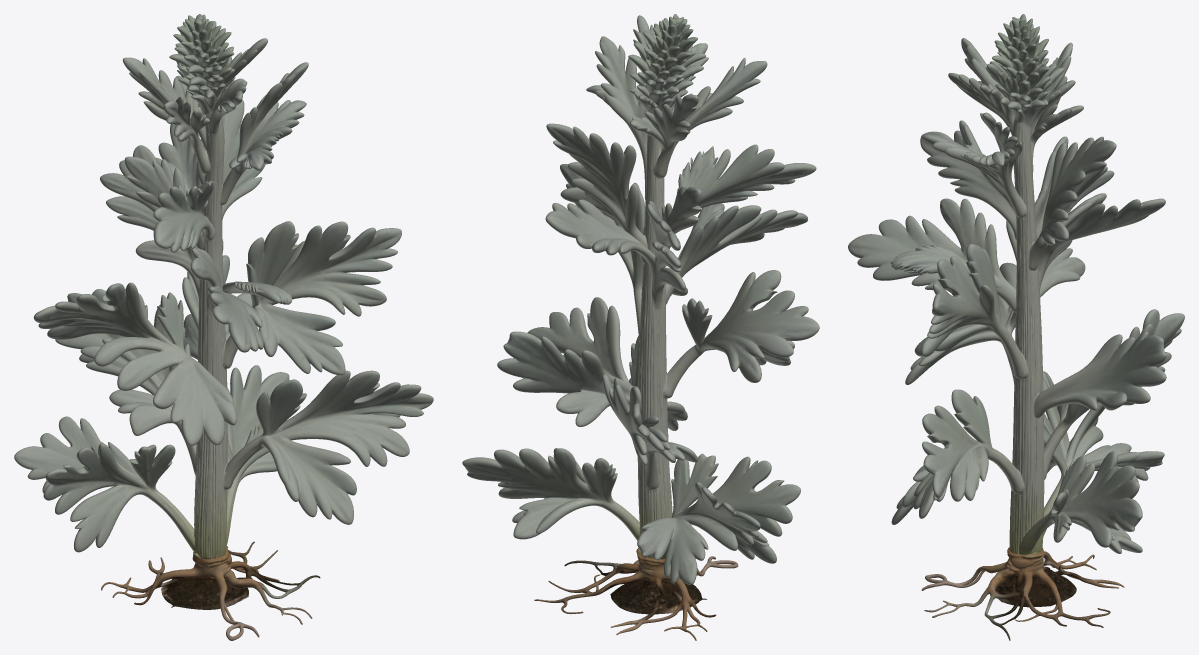
Rendered from aicao.glb.
The picture shows the model from 3 angles, left to right: view 1: azimuth 30°, elevation 25°; view 2: azimuth 150°, elevation 25°; view 3: azimuth 270°, elevation 25°; orthographic projection. The views are drawn at different scales.
Visible parts, largest first — view 1: node_0; view 2: node_0; view 3: node_0.
Boxes of the visible parts, box(x1,y1,x2,y2) form: node_0: box(14, 14, 433, 640); node_0: box(462, 14, 819, 640); node_0: box(848, 14, 1184, 640).
Bounding box in the file's own units: 0.6949 × 1.13 × 0.6036.
Materials: 1 (1 with a texture image).
